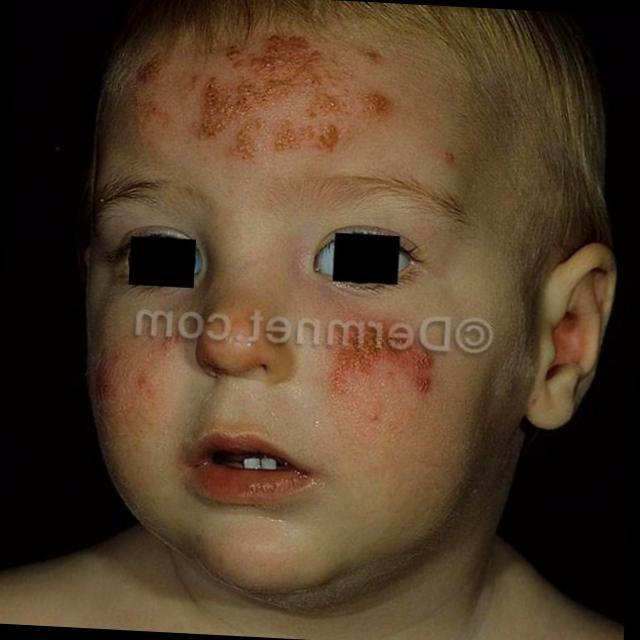Eczema: (118, 35, 396, 150), (324, 320, 444, 408), (92, 326, 186, 402)
